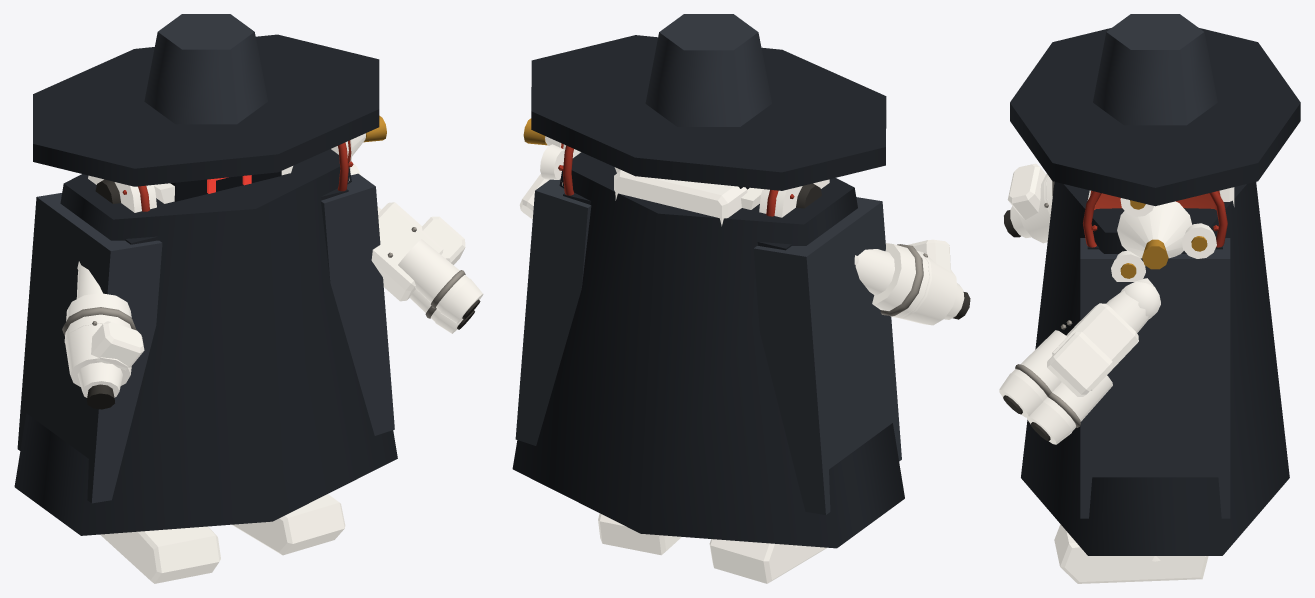
Rendered from saturn-warden-exact-fit-v1.glb.
3 renders of one model, left to right at view 1: azimuth 30°, elevation 25°; view 2: azimuth 150°, elevation 25°; view 3: azimuth 270°, elevation 25°, orthographic. The views are drawn at different scales.
Parts seen in each view (by area): view 1: object 34, object 49, object 36, God Arm + Megalith, object 50, object 37, object 20, object 22, object 17, object 16, object 15, object 33 (+3 smaller); view 2: object 34, object 49, object 36, God Arm + Megalith, object 50, object 37, object 15, object 16, object 14, object 17, object 12; view 3: object 34, object 49, object 37, object 50, God Arm + Megalith, object 33, object 20, object 17, object 22, object 28, object 25, object 31 (+4 smaller).
Boxes of the visible parts, x1,y1,x2,y2 form: object 34: (14,149,397,535); object 49: (33,34,379,186); object 36: (17,193,162,503); God Arm + Megalith: (62,115,416,583); object 50: (144,14,267,124); object 37: (321,173,394,435); object 20: (371,202,443,301); object 22: (398,239,469,311); object 17: (91,321,144,370); object 16: (64,320,131,386); object 15: (64,293,131,342); object 33: (422,216,465,264); object 34: (512,152,904,548); object 49: (531,35,886,190); object 36: (753,197,901,514); God Arm + Megalith: (523,118,970,583); object 50: (645,14,771,126); object 37: (515,179,591,445); object 15: (872,243,931,318); object 16: (890,251,957,325); object 14: (855,249,894,295); object 17: (908,239,950,271); object 12: (540,144,564,179); object 34: (1021,182,1289,555); object 49: (1010,28,1300,206); object 37: (1080,238,1230,518); object 50: (1093,14,1217,125); God Arm + Megalith: (1004,181,1234,583); object 33: (1047,331,1112,396); object 20: (1052,303,1138,390); object 17: (1007,163,1045,219); object 22: (1011,330,1066,401); object 28: (1043,375,1112,431); object 25: (999,373,1042,417); object 31: (1027,402,1071,444).
Size of the model in its own units: 6.41 by 7.57 by 4.08.
